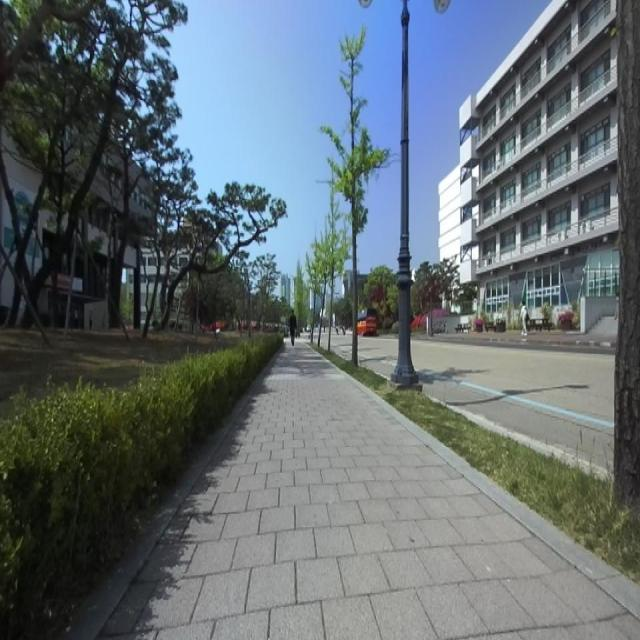sidewalk: (64, 340, 640, 639)
